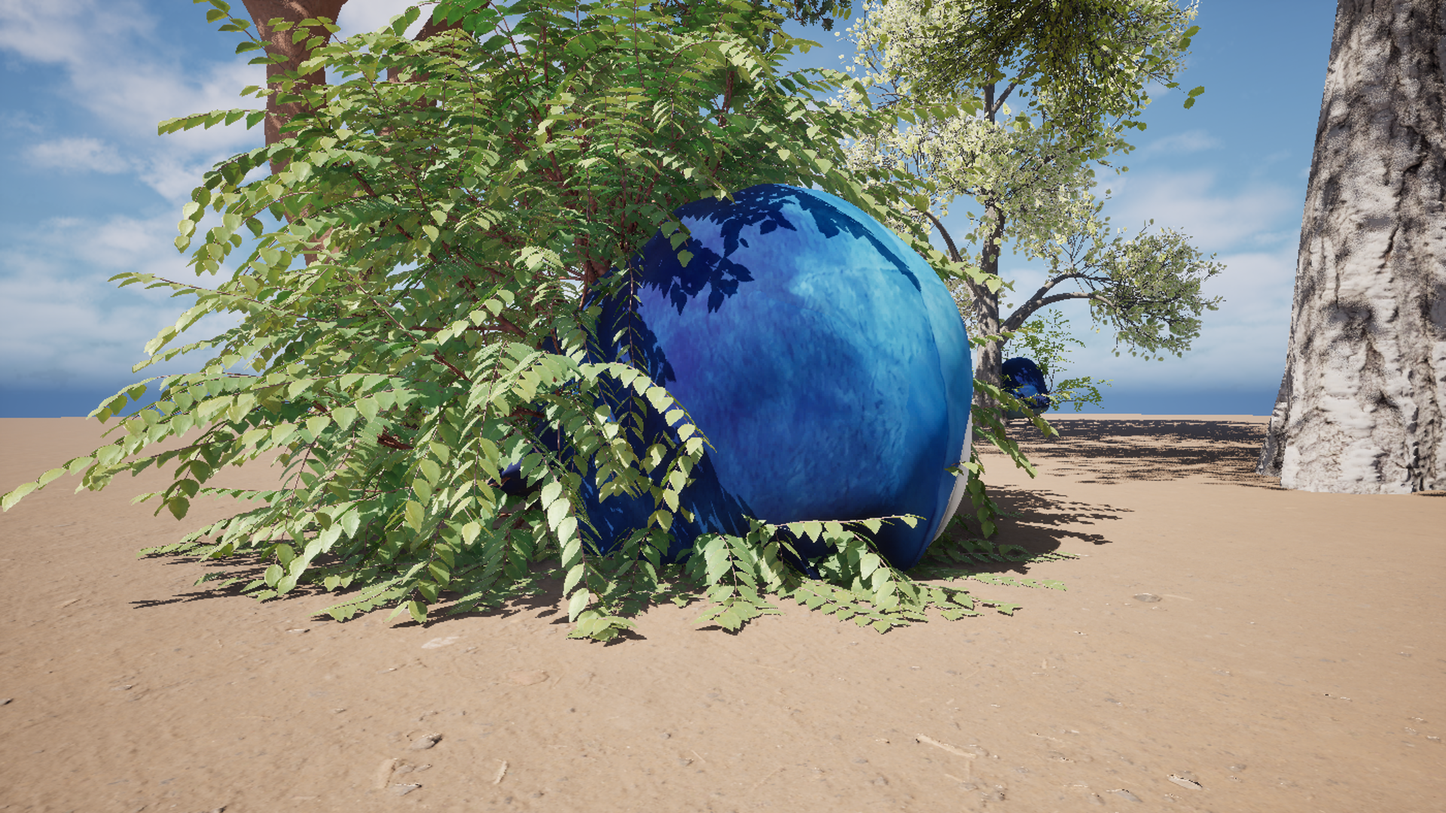Piplup: (444, 0, 1174, 813)
